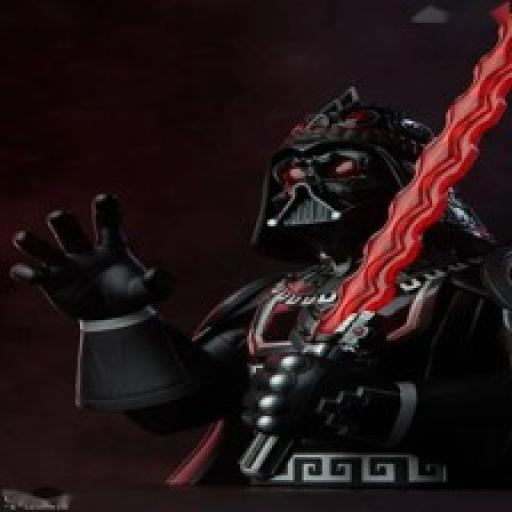human: (4, 102, 512, 489)
sith saber: (240, 2, 510, 474)
